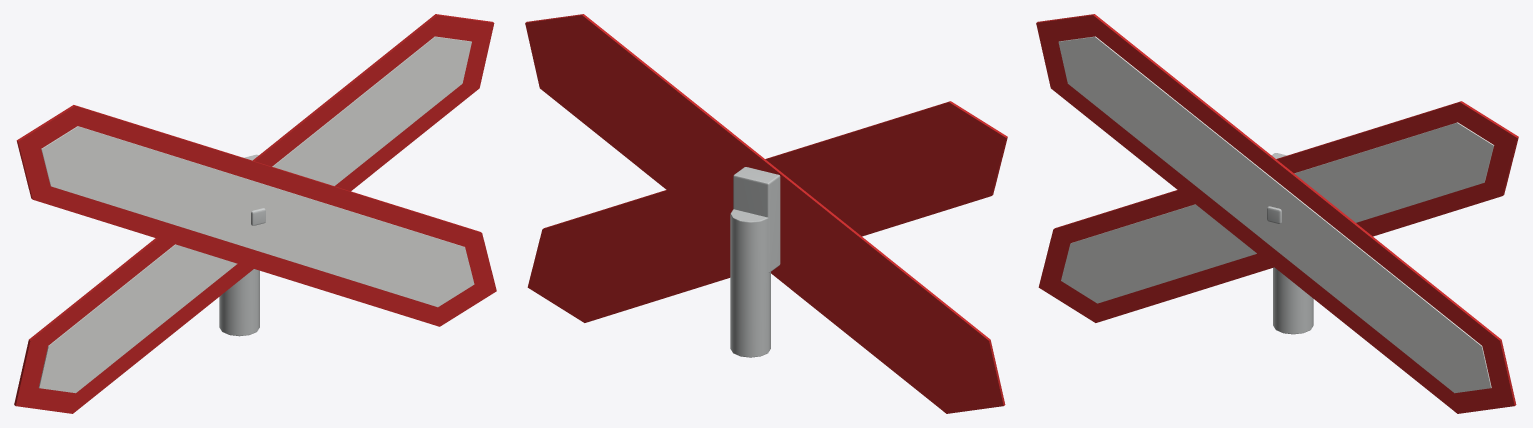
Rendered from lx_saltire_top.glb.
The picture shows the model from 3 angles, left to right: view 1: azimuth 30°, elevation 25°; view 2: azimuth 150°, elevation 25°; view 3: azimuth 330°, elevation 25°; orthographic projection.
Visible parts, largest first — view 1: SM_lx_saltire_top; view 2: SM_lx_saltire_top; view 3: SM_lx_saltire_top.
Part boxes in pixels (x1=…): SM_lx_saltire_top: x1=14, y1=14, x2=496, y2=413; SM_lx_saltire_top: x1=525, y1=14, x2=1007, y2=413; SM_lx_saltire_top: x1=1036, y1=14, x2=1518, y2=413.
Bounding box in the file's own units: 1.32 × 0.8193 × 0.145.
